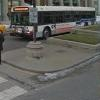Bus: (7, 1, 96, 39)
